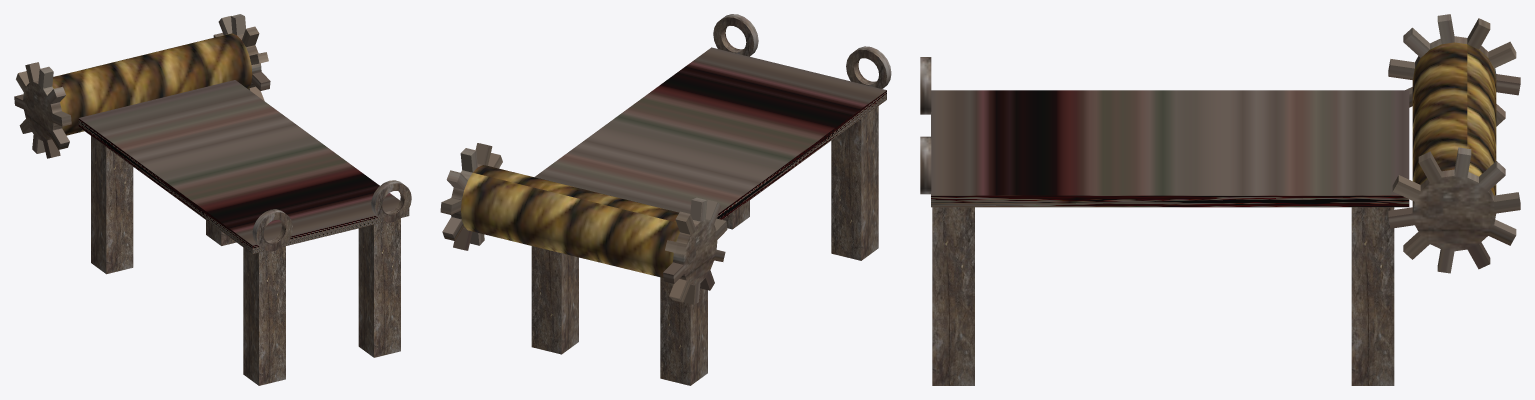
Rendered from Rack.fbx.
3 renders of one model, left to right at view 1: azimuth 30°, elevation 25°; view 2: azimuth 150°, elevation 25°; view 3: azimuth 270°, elevation 25°, orthographic. The views are drawn at different scales.
Visible parts, largest first — view 1: pCube3; view 2: pCube3; view 3: pCube3.
Part boxes in pixels (<box>): pCube3: <box>14,14,411,385</box>; pCube3: <box>440,14,891,385</box>; pCube3: <box>920,14,1520,385</box>.
Size of the model in its own units: 6.67 by 5.71 by 12.13.
Materials: 1 (1 with a texture image).
